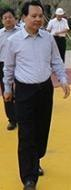boots: (6, 120, 15, 129), (0, 123, 7, 130)
hard-hat: (0, 67, 8, 81)
